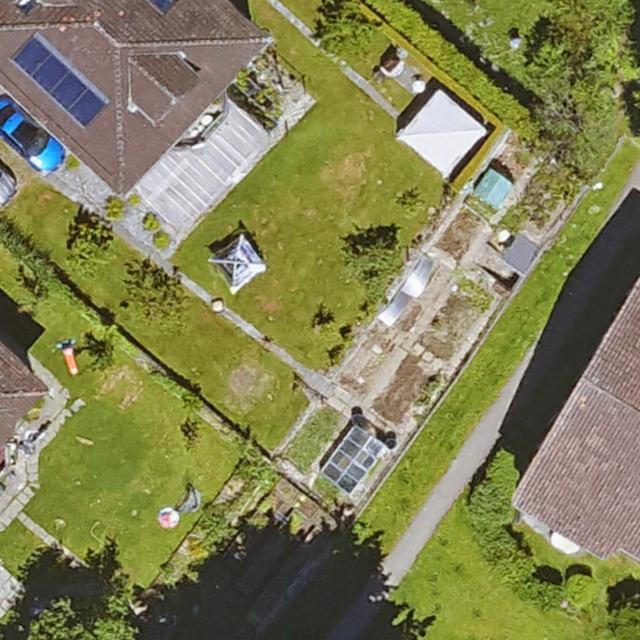tree: (23, 593, 141, 640), (125, 266, 183, 327), (343, 231, 402, 289), (316, 0, 372, 54), (68, 223, 112, 272), (608, 596, 640, 640)
